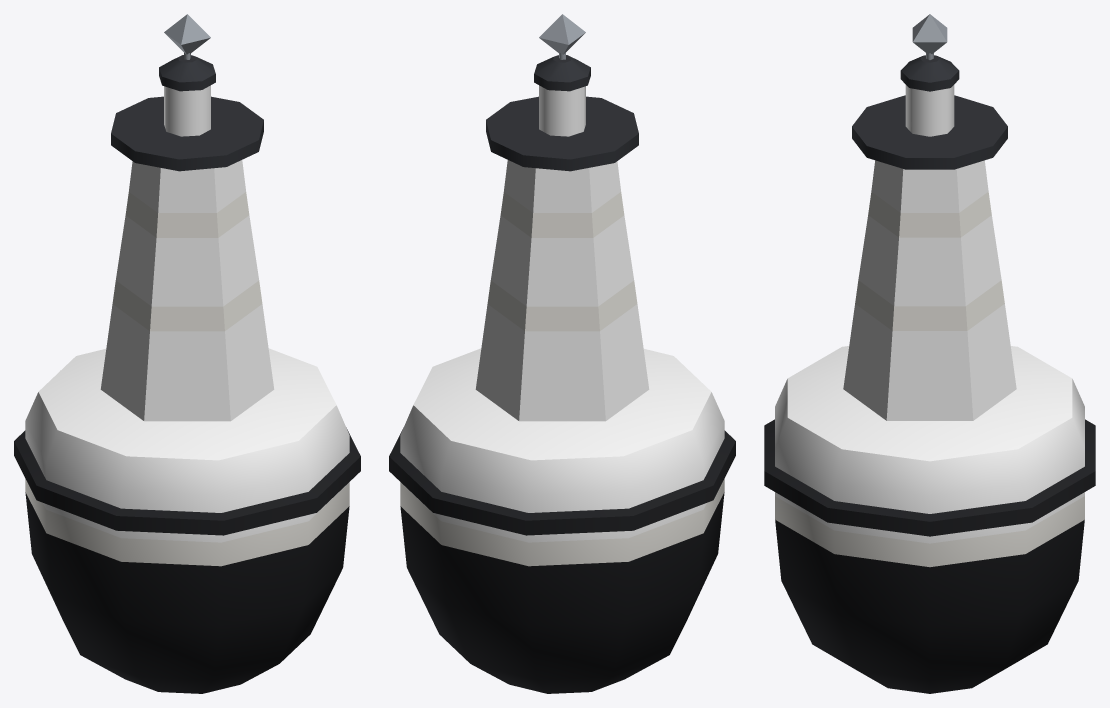
Rendered from prop_buoy.glb.
3 views of the same model, side by side, from view 1: azimuth 30°, elevation 25°; view 2: azimuth 150°, elevation 25°; view 3: azimuth 270°, elevation 25° (orthographic).
Parts seen in each view (by area): view 1: prop_buoy__mesh; view 2: prop_buoy__mesh; view 3: prop_buoy__mesh.
Part boxes in pixels (x1,y1,x2,y2): prop_buoy__mesh: (14, 14, 360, 693); prop_buoy__mesh: (389, 14, 735, 693); prop_buoy__mesh: (764, 14, 1095, 693).
Bounding box in the file's own units: 1.07 × 2.2 × 1.02.
1 material, 1 textured.
